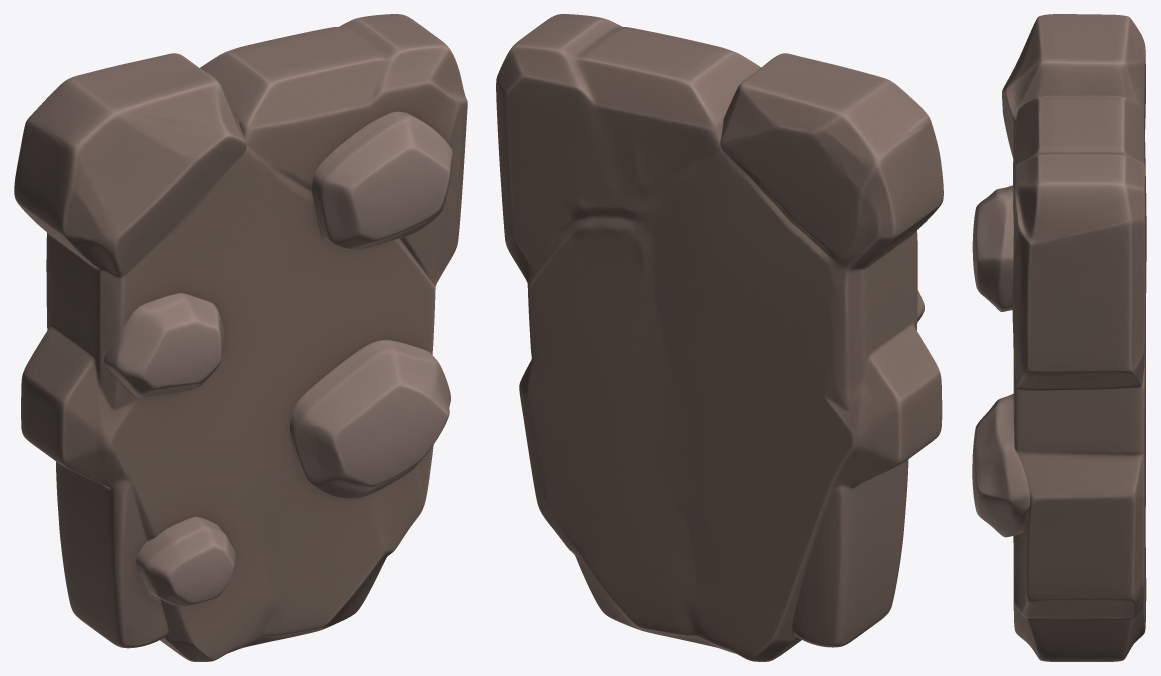
The model's file is bulwark-r4-hd.glb.
The picture shows the model from 3 angles, left to right: view 1: azimuth 30°, elevation 25°; view 2: azimuth 150°, elevation 25°; view 3: azimuth 270°, elevation 25°; orthographic projection. The views are drawn at different scales.
Size of the model in its own units: 1.4 by 1.9 by 0.5522.
1 material, 1 textured.
